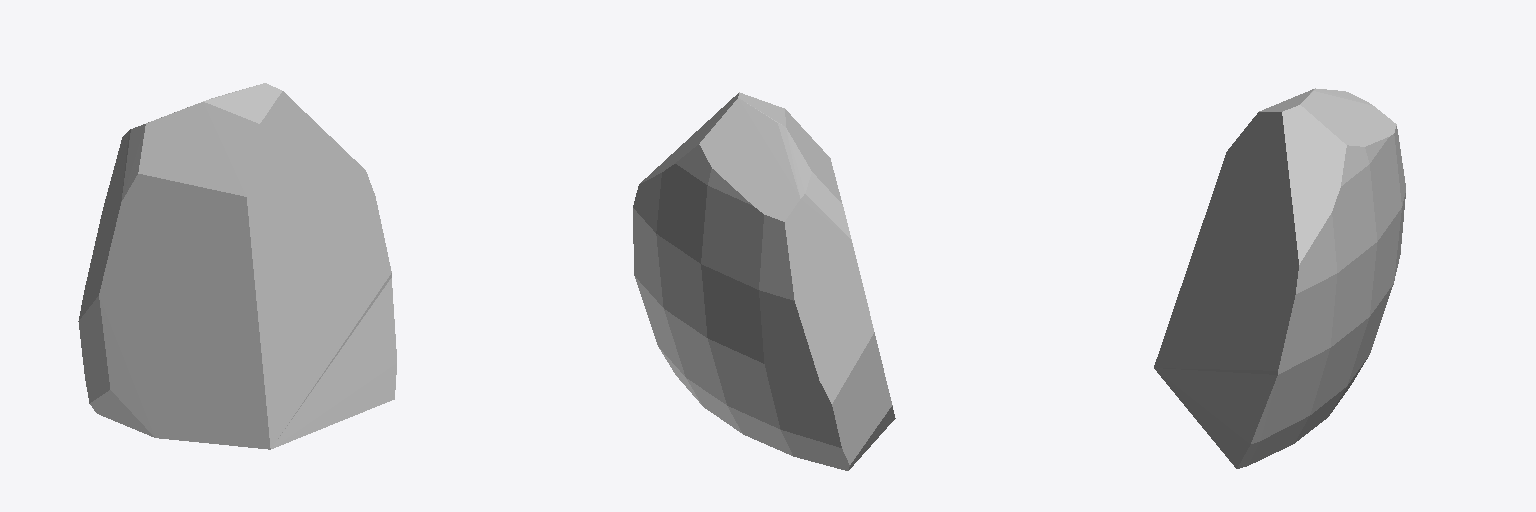
The model's file is Sphere_Cell_Fracture45.obj.
The picture shows the model from 3 angles: view 1: azimuth 30°, elevation 25°; view 2: azimuth 150°, elevation 25°; view 3: azimuth 270°, elevation 25°; orthographic projection.
Size of the model in its own units: 0.7208 by 0.8211 by 0.5845.